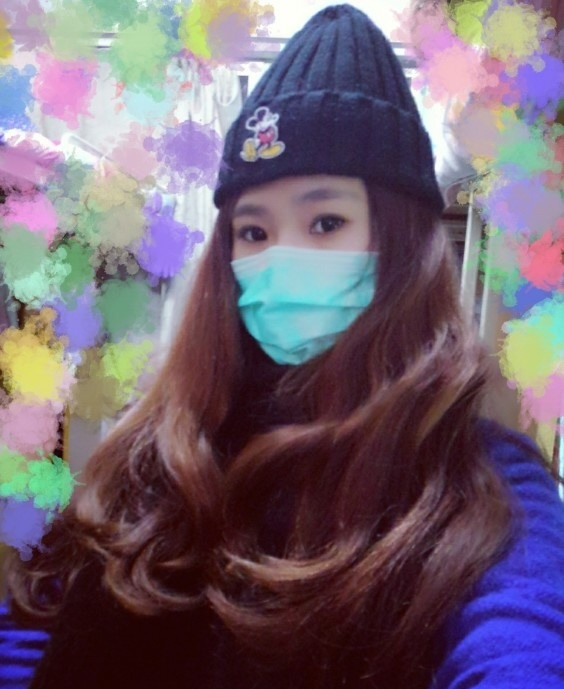face_mask: (228, 156, 376, 360)
